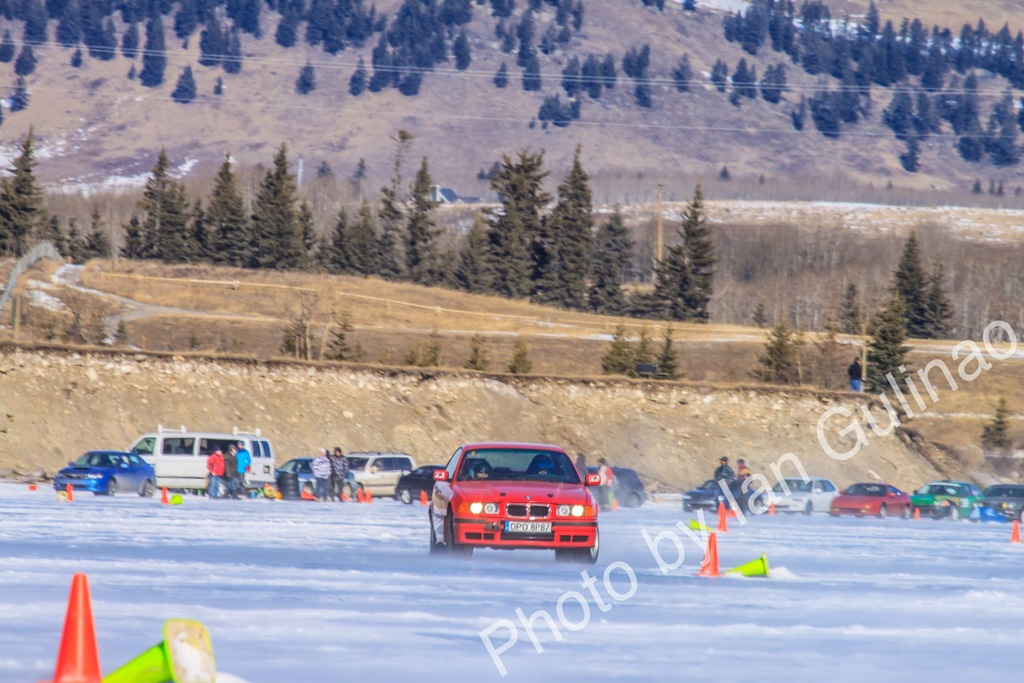Car: (410, 445, 614, 568), (46, 448, 157, 495), (351, 449, 412, 501), (760, 474, 838, 514), (828, 483, 912, 519), (918, 477, 982, 519), (969, 481, 1023, 522), (273, 451, 318, 498), (608, 464, 645, 506), (678, 478, 721, 514)
